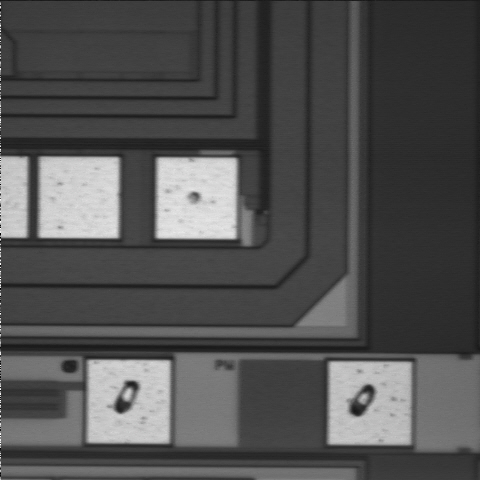pad: (88, 360, 170, 443), (329, 362, 411, 444), (39, 157, 119, 238), (157, 158, 236, 239)
